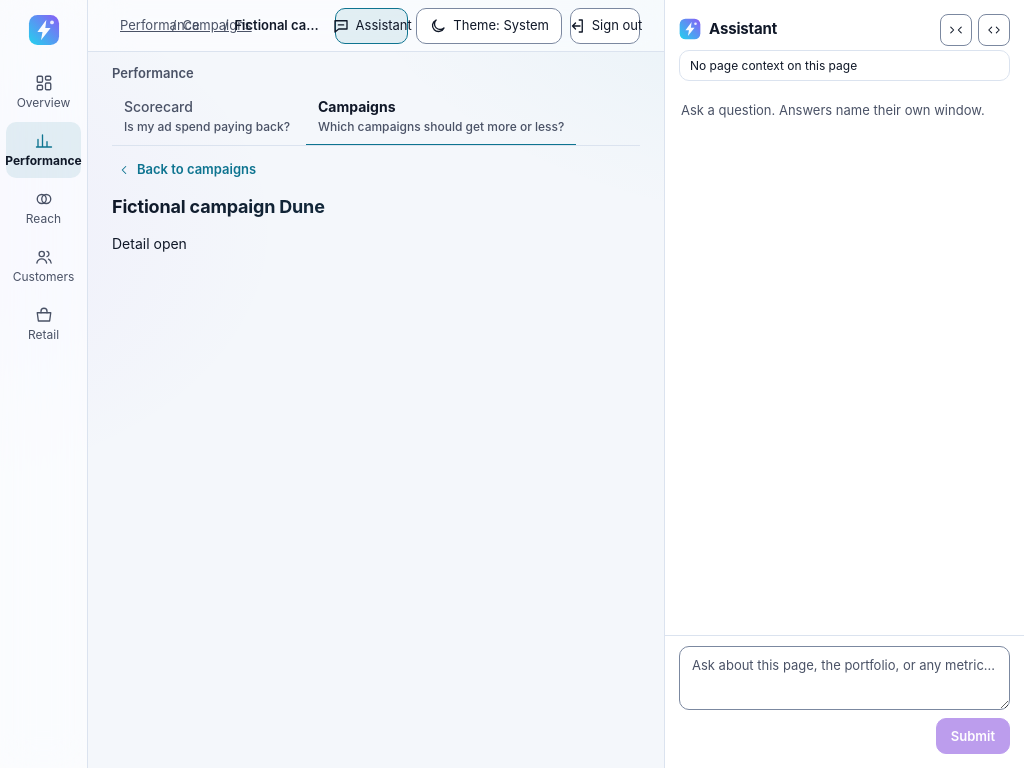
Test case: an entity with a Back label draws it between the tab strip and the h1, and it closes the entity
Click the button "Back to campaigns" at (187, 170), box [112,152,261,188]
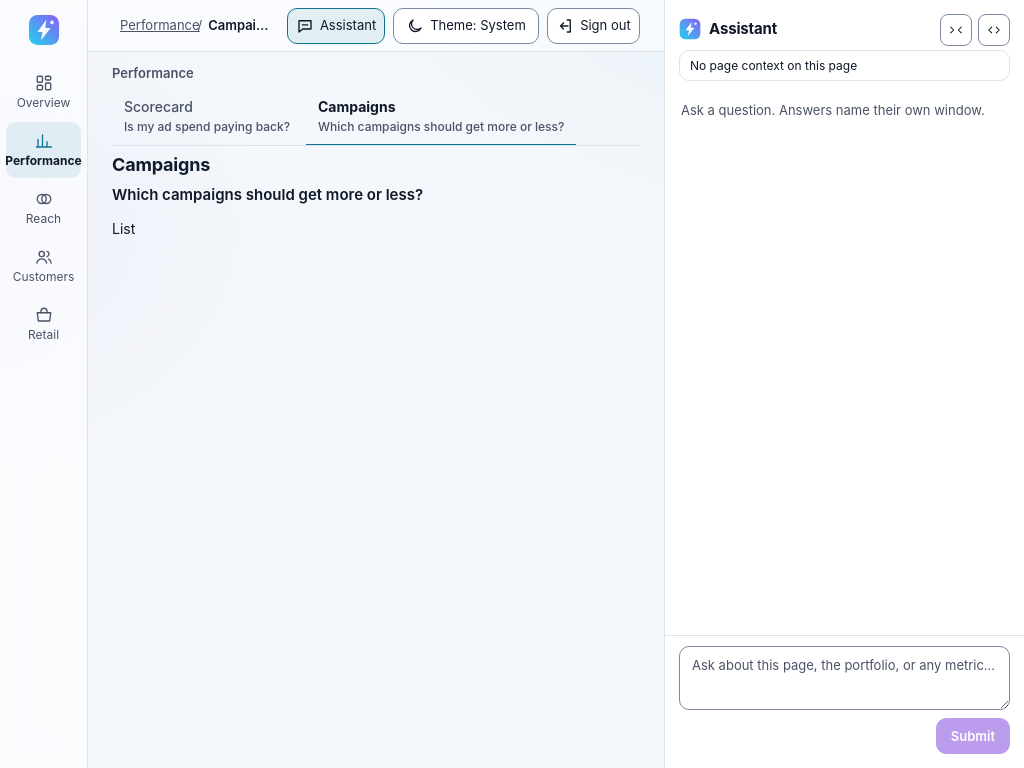
Now the text "List" is shown, box [112,220,135,237]
Now the button "Back to campaigns" is gone
